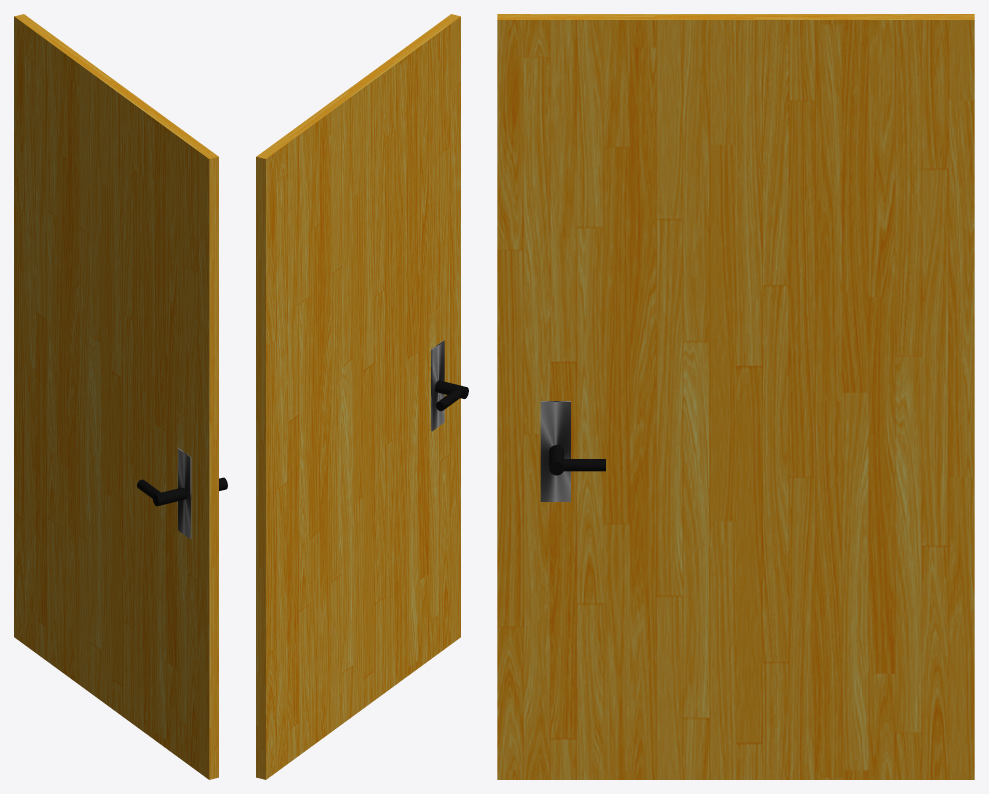
The model's file is doortx.dae.
3 renders of one model, left to right at view 1: azimuth 30°, elevation 25°; view 2: azimuth 150°, elevation 25°; view 3: azimuth 270°, elevation 25°, orthographic. The views are drawn at different scales.
Parts seen in each view (by area): view 1: Door, PalletFront, FrontHandle1; view 2: Door, PalletFront; view 3: Door, PalletBack.
Boxes of the visible parts, x1=… form: Door: x1=14, y1=14, x2=218, y2=779; PalletFront: x1=178, y1=448, x2=191, y2=539; FrontHandle1: x1=153, y1=487, x2=186, y2=506; Door: x1=256, y1=14, x2=460, y2=779; PalletFront: x1=431, y1=340, x2=444, y2=431; Door: x1=497, y1=14, x2=974, y2=779; PalletBack: x1=540, y1=401, x2=570, y2=501.
Size of the model in its own units: 7.85 by 38.51 by 67.62.
3 materials, 2 textured.
